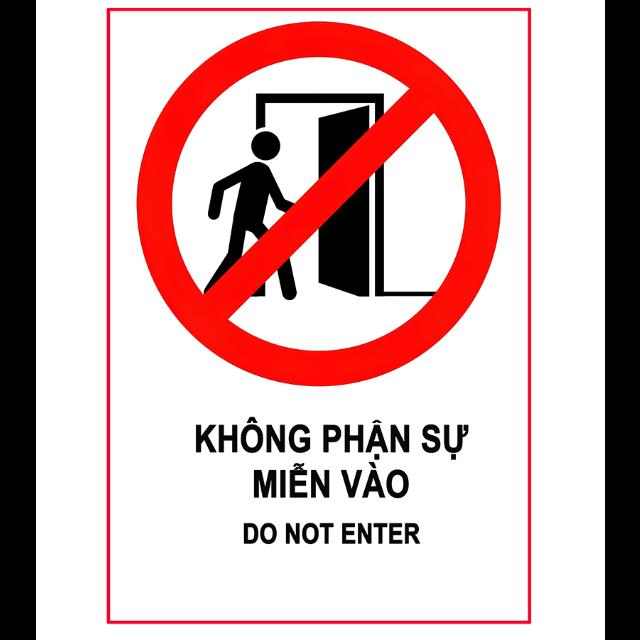no_entry: (110, 9, 528, 621)
